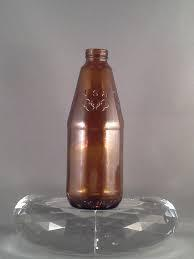Glass bottle: (61, 41, 127, 206)
